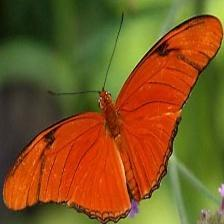butterfly: (2, 15, 224, 224)
